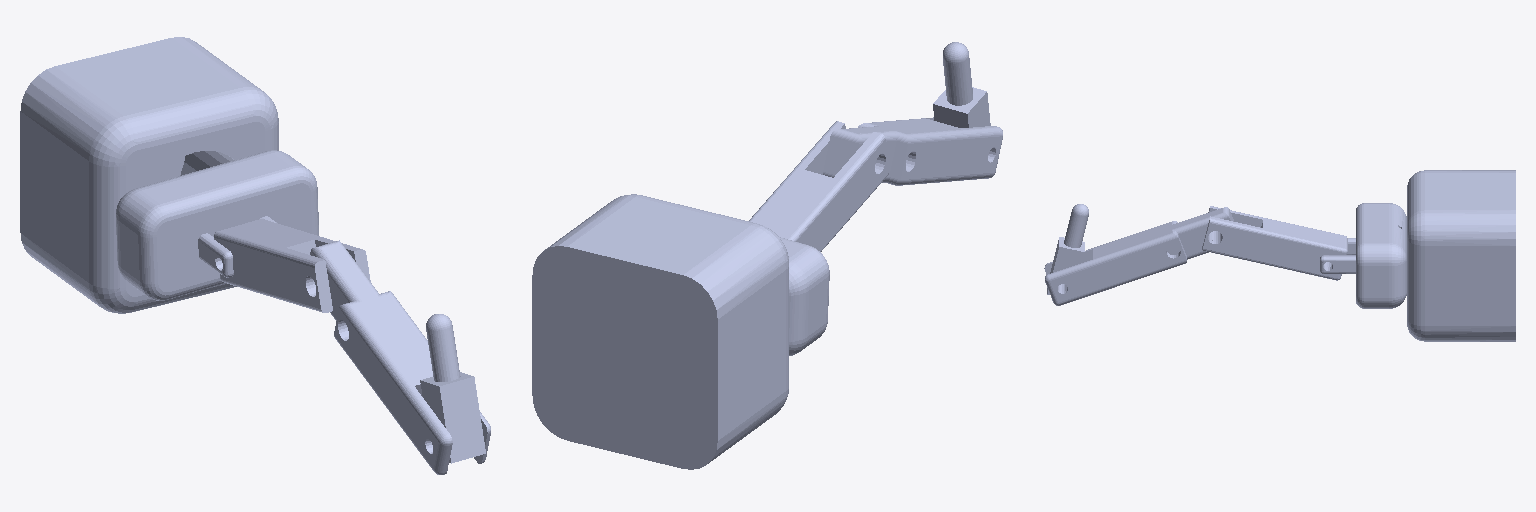
The robot description file, URDF, robot "robot_arm":
<?xml version="1.0" encoding="utf-8"?>
<!-- This URDF was automatically created by SolidWorks to URDF Exporter! Originally created by [author] ([email redacted]) 
     Commit Version: 1.6.0-4-g7f85cfe  Build Version: 1.6.7995.38578
     For more information, please see http://wiki.ros.org/sw_urdf_exporter -->
<robot
  name="robot_arm">
  <link
    name="base_link">
    <inertial>
      <origin
        xyz="-0.00398828370687043 -0.0775678481202017 -0.0217693819000004"
        rpy="0 0 0" />
      <mass
        value="0.288889380488258" />
      <inertia
        ixx="0.000266474437597533"
        ixy="-1.03865572224056E-20"
        ixz="-4.96308367531816E-21"
        iyy="0.000350648549571195"
        iyz="-2.24091622569824E-21"
        izz="0.000266474437597533" />
    </inertial>
    <visual>
      <origin
        xyz="0 0 0"
        rpy="0 0 0" />
      <geometry>
        <mesh
          filename="package://robot_arm/meshes/base_link.STL" />
      </geometry>
      <material
        name="">
        <color
          rgba="0.792156862745098 0.819607843137255 0.933333333333333 1" />
      </material>
    </visual>
    <collision>
      <origin
        xyz="0 0 0"
        rpy="0 0 0" />
      <geometry>
        <mesh
          filename="package://robot_arm/meshes/base_link.STL" />
      </geometry>
    </collision>
  </link>
  <link
    name="link1">
    <inertial>
      <origin
        xyz="-1.95061009618941E-09 9.91731834142778E-06 0.0156114006190826"
        rpy="0 0 0" />
      <mass
        value="0.0800362555391812" />
      <inertia
        ixx="1.50883578975726E-05"
        ixy="-2.8751596358526E-12"
        ixz="-1.12152865228051E-12"
        iyy="4.16112953755754E-05"
        iyz="9.21897491824461E-09"
        izz="4.48360603626746E-05" />
    </inertial>
    <visual>
      <origin
        xyz="0 0 0"
        rpy="0 0 0" />
      <geometry>
        <mesh
          filename="package://robot_arm/meshes/link1.STL" />
      </geometry>
      <material
        name="">
        <color
          rgba="0.792156862745098 0.819607843137255 0.933333333333333 1" />
      </material>
    </visual>
    <collision>
      <origin
        xyz="0 0 0"
        rpy="0 0 0" />
      <geometry>
        <mesh
          filename="package://robot_arm/meshes/link1.STL" />
      </geometry>
    </collision>
  </link>
  <joint
    name="joint1"
    type="revolute">
    <origin
      xyz="-0.0039883 -0.1105 -0.021769"
      rpy="-1.5708 0.040802 -3.1416" />
    <parent
      link="base_link" />
    <child
      link="link1" />
    <axis
      xyz="0 0 1" />
    <limit
      lower="3.14"
      upper="-3.14"
      effort="100"
      velocity="1" />
  </joint>
  <link
    name="link2">
    <inertial>
      <origin
        xyz="0.0242396860547709 0.000993879258798669 0"
        rpy="0 0 0" />
      <mass
        value="0.0259312994351659" />
      <inertia
        ixx="2.1341902221945E-06"
        ixy="-2.73289237178091E-21"
        ixz="3.91752738105114E-21"
        iyy="1.15888585714462E-05"
        iyz="-3.21084000675938E-22"
        izz="1.19331212252225E-05" />
    </inertial>
    <visual>
      <origin
        xyz="0 0 0"
        rpy="0 0 0" />
      <geometry>
        <mesh
          filename="package://robot_arm/meshes/link2.STL" />
      </geometry>
      <material
        name="">
        <color
          rgba="0.792156862745098 0.819607843137255 0.933333333333333 1" />
      </material>
    </visual>
    <collision>
      <origin
        xyz="0 0 0"
        rpy="0 0 0" />
      <geometry>
        <mesh
          filename="package://robot_arm/meshes/link2.STL" />
      </geometry>
    </collision>
  </link>
  <joint
    name="joint2"
    type="revolute">
    <origin
      xyz="0 0 0.044384"
      rpy="0 -1.3342 -1.5708" />
    <parent
      link="link1" />
    <child
      link="link2" />
    <axis
      xyz="0 1 0" />
    <limit
      lower="3.14"
      upper="-3.14"
      effort="100"
      velocity="1" />
  </joint>
  <link
    name="link3">
    <inertial>
      <origin
        xyz="-0.0412548882668624 -0.00115643002044266 1.0887082901867E-10"
        rpy="0 0 0" />
      <mass
        value="0.0316922868963242" />
      <inertia
        ixx="2.27587345356735E-06"
        ixy="-2.20848023156367E-07"
        ixz="-2.65809384035189E-13"
        iyy="2.22839586326293E-05"
        iyz="-3.49525158461995E-12"
        izz="2.24696947167436E-05" />
    </inertial>
    <visual>
      <origin
        xyz="0 0 0"
        rpy="0 0 0" />
      <geometry>
        <mesh
          filename="package://robot_arm/meshes/link3.STL" />
      </geometry>
      <material
        name="">
        <color
          rgba="0.792156862745098 0.819607843137255 0.933333333333333 1" />
      </material>
    </visual>
    <collision>
      <origin
        xyz="0 0 0"
        rpy="0 0 0" />
      <geometry>
        <mesh
          filename="package://robot_arm/meshes/link3.STL" />
      </geometry>
    </collision>
  </link>
  <joint
    name="joint3"
    type="revolute">
    <origin
      xyz="0.065309 0 0"
      rpy="0 0.5857 3.1416" />
    <parent
      link="link2" />
    <child
      link="link3" />
    <axis
      xyz="0 1 0" />
    <limit
      lower="3.14"
      upper="-3.14"
      effort="100"
      velocity="1" />
  </joint>
  <link
    name="link4">
    <inertial>
      <origin
        xyz="1.36279876272738E-13 0.000393879258798684 0.0148712885499788"
        rpy="0 0 0" />
      <mass
        value="0.00815848070635942" />
      <inertia
        ixx="1.65747192919462E-06"
        ixy="5.3902192813311E-23"
        ixz="2.87858853168454E-21"
        iyy="1.6644698268305E-06"
        iyz="-1.54949351241432E-23"
        izz="2.66471532790001E-07" />
    </inertial>
    <visual>
      <origin
        xyz="0 0 0"
        rpy="0 0 0" />
      <geometry>
        <mesh
          filename="package://robot_arm/meshes/link4.STL" />
      </geometry>
      <material
        name="">
        <color
          rgba="0.792156862745098 0.819607843137255 0.933333333333333 1" />
      </material>
    </visual>
    <collision>
      <origin
        xyz="0 0 0"
        rpy="0 0 0" />
      <geometry>
        <mesh
          filename="package://robot_arm/meshes/link4.STL" />
      </geometry>
    </collision>
  </link>
  <joint
    name="joint4"
    type="revolute">
    <origin
      xyz="-0.091355 0 0"
      rpy="-3.1416 -0.57821 0" />
    <parent
      link="link3" />
    <child
      link="link4" />
    <axis
      xyz="0 1 0" />
    <limit
      lower="3.14"
      upper="-3.14"
      effort="100"
      velocity="1" />
  </joint>
</robot>

--- What the picture shows (computed from the rendered views, not written in the file) ---
3 views of the same robot in one strip: view 1: azimuth 30°, elevation 25°; view 2: azimuth 150°, elevation 25°; view 3: azimuth 270°, elevation 25° (orthographic).
Model robot_arm with 5 links and 4 joints (4 revolute), rooted at base_link, posed every joint at zero.
Visible links, largest first — view 1: base_link, link1, link3, link2, link4; view 2: base_link, link2, link3, link1, link4; view 3: base_link, link3, link1, link2, link4.
Link boxes in pixels (x1=…): base_link: x1=20, y1=37, x2=278, y2=313; link1: x1=116, y1=150, x2=318, y2=300; link3: x1=310, y1=240, x2=490, y2=474; link2: x1=214, y1=219, x2=370, y2=312; link4: x1=420, y1=314, x2=485, y2=463; base_link: x1=532, y1=194, x2=788, y2=469; link2: x1=749, y1=121, x2=888, y2=251; link3: x1=823, y1=117, x2=1002, y2=185; link1: x1=779, y1=237, x2=829, y2=355; link4: x1=933, y1=42, x2=990, y2=127; base_link: x1=1407, y1=170, x2=1515, y2=341; link3: x1=1044, y1=207, x2=1233, y2=305; link1: x1=1320, y1=203, x2=1406, y2=308; link2: x1=1202, y1=206, x2=1347, y2=280; link4: x1=1047, y1=204, x2=1088, y2=294.
Size in the robot's own frame: 0.08 by 0.2651 by 0.08 metres.
Meshes: 5 distinct files referenced, 5 mesh visuals loaded (5 binary STL).
